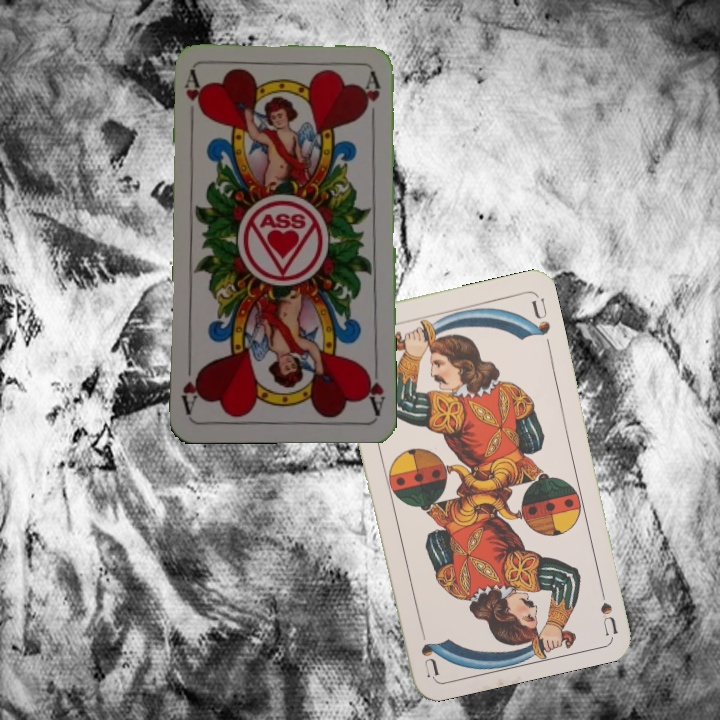HA: (361, 357, 388, 416), (180, 68, 201, 127)
SU: (594, 577, 620, 636)
